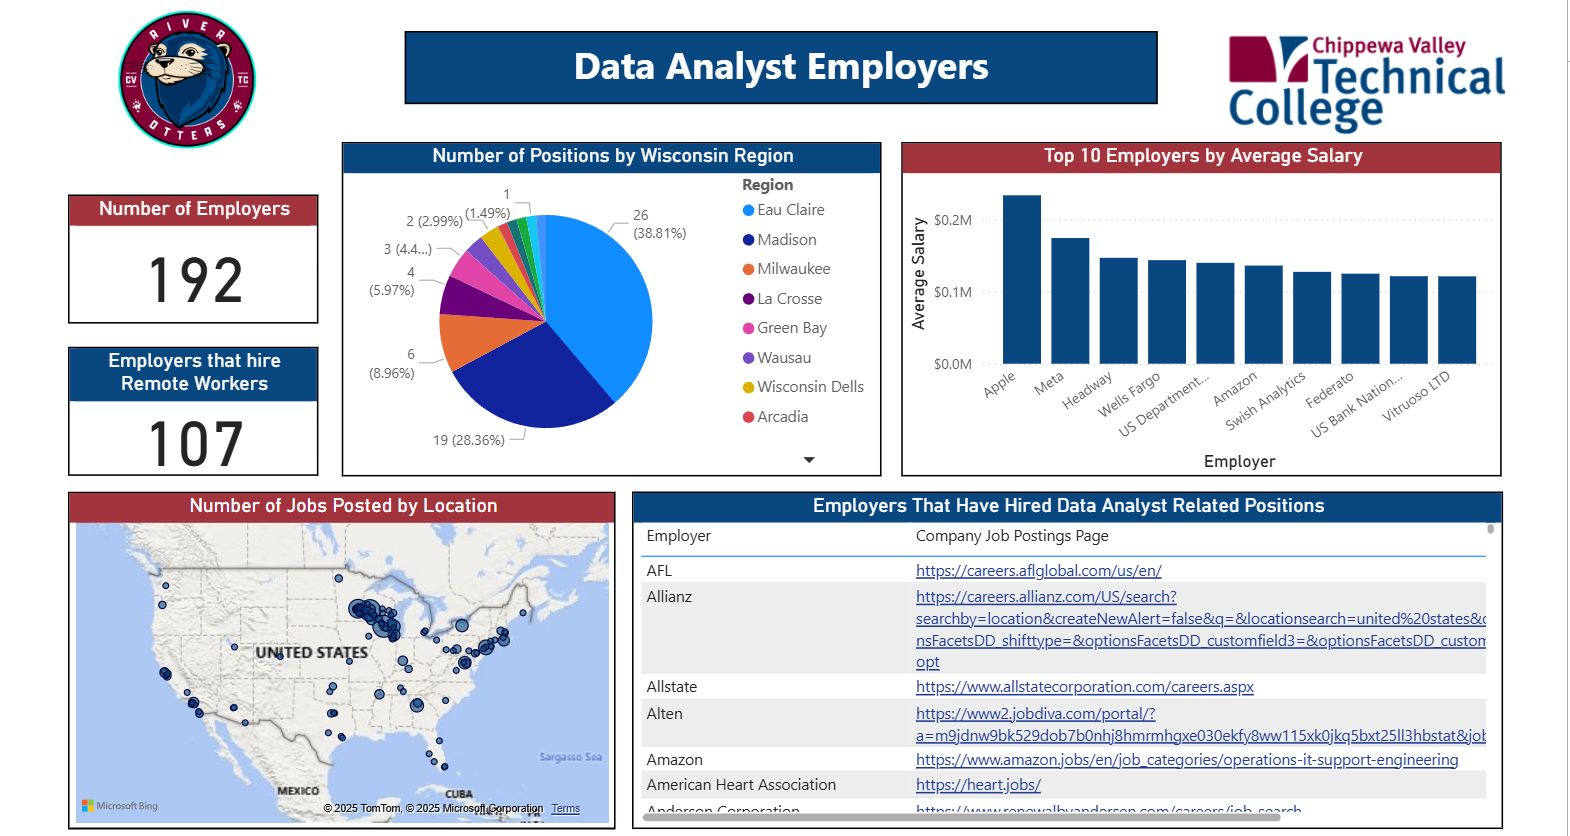

What the dashboard file says about the page in this screenshot:
{"tool":"powerbi","page":{"name":"Employers","canvas":[1280,720],"ordinal":3},"visuals":[{"type":"image","box":[999.9,0,280.1,141],"z":0},{"type":"image","box":[60.3,0,139.1,141],"z":1000},{"type":"textbox","box":[317.1,28.2,644.9,63.2],"z":2000},{"type":"tableEx","title":"Employers That Have Hired Data Analyst Related Positions","fields":{"Values":["employer_tbl.Employer","employer_tbl.Company Job Postings Page"]},"box":[511.4,422.8,746.2,289.3],"z":2001},{"type":"clusteredColumnChart","title":"Top 10 Employers by Average Salary","fields":{"Y":["position_tbl.Average Pay Per Position"],"Category":["employer_tbl.Employer"]},"box":[742.3,123.7,515.3,286.4],"z":2002},{"type":"map","title":"Number of Jobs Posted by Location","fields":{"Category":["employer_tbl.country Hierarchy.city"],"Size":["position_tbl.Job Openings"]},"box":[28.2,422.8,469.5,289.3],"z":2003},{"type":"card","title":"Number of Employers","fields":{"Values":["employer_tbl.Employer Count"]},"box":[28.2,168.5,214.3,111.1],"z":2004},{"type":"card","title":"Employers that hire Remote Workers","fields":{"Values":["employer_tbl.Employers With Remote Positions"]},"box":[28.2,299.1,214.3,111.1],"z":2005},{"type":"pieChart","title":"Number of Positions by Wisconsin Region","fields":{"Category":["employer_tbl.Region"],"Y":["employer_tbl.Employer Count"]},"box":[263,123.7,462.7,286.4],"z":2006}]}

Visuals, with their boxes on the page's 1280x720 design canvas (x1, y1, x2, y2). These are canvas units, not pixel positions in the 1570x836 screenshot, which may show the page scaled, cropped or inside an application window:
image: 1000 0 1280 141
image: 60 0 199 141
textbox: 317 28 962 91
"Employers That Have Hired Data Analyst Related Positions" tableEx: 511 423 1258 712
"Top 10 Employers by Average Salary" clusteredColumnChart: 742 124 1258 410
"Number of Jobs Posted by Location" map: 28 423 498 712
"Number of Employers" card: 28 168 242 280
"Employers that hire Remote Workers" card: 28 299 242 410
"Number of Positions by Wisconsin Region" pieChart: 263 124 726 410
